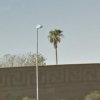Tree: (45, 23, 63, 57)
